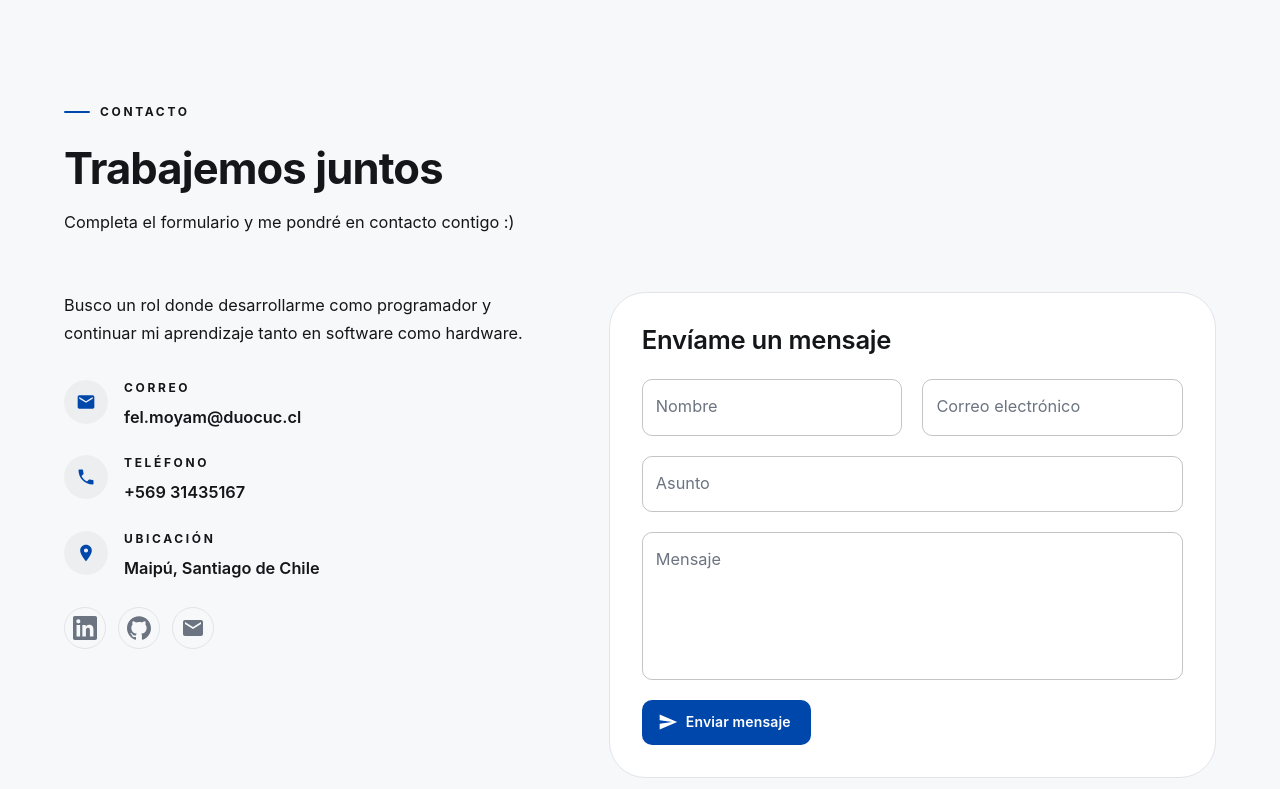
Test: SeccionContacto - Organismo › valida formato de correo electrónico
In the field labelled "Correo electrónico": (1053,407) [922,379,1183,436], type "correo-invalido"
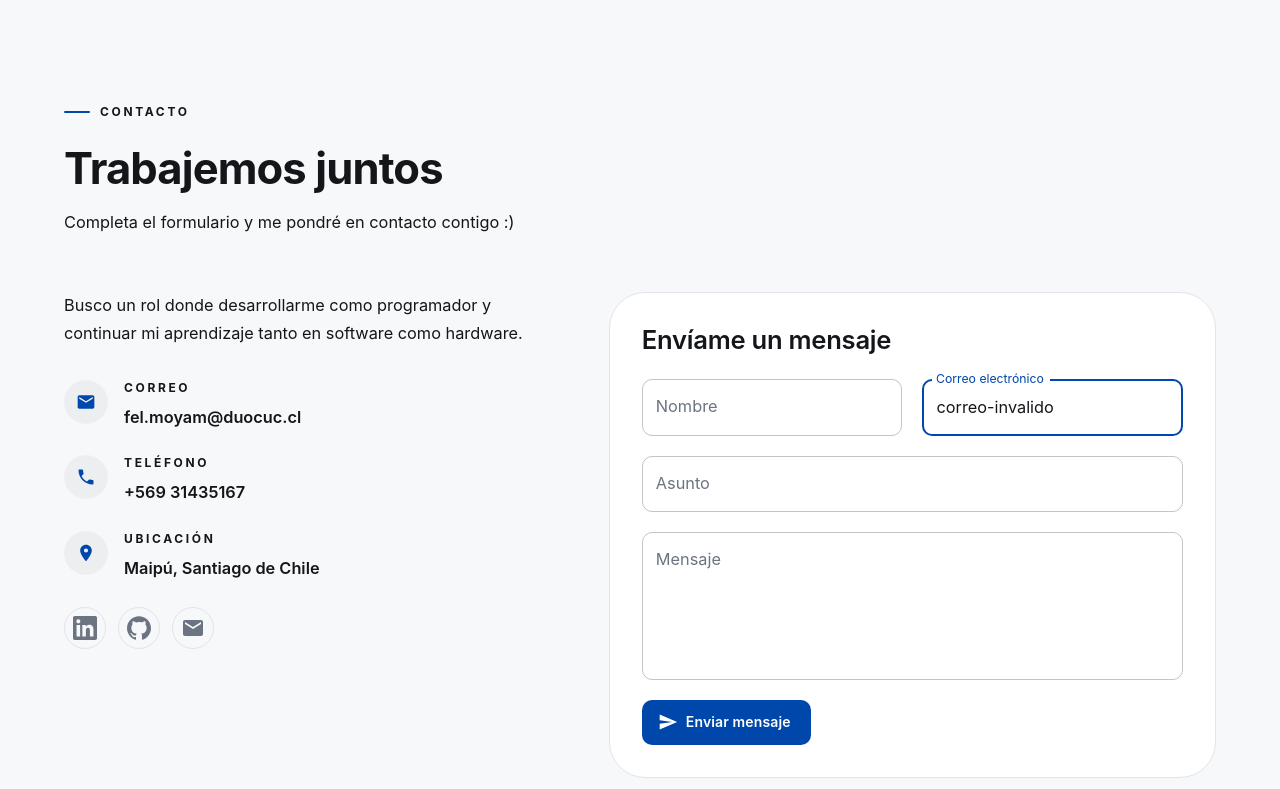
Click the button "Enviar mensaje": (726,722) [642,700,811,745]
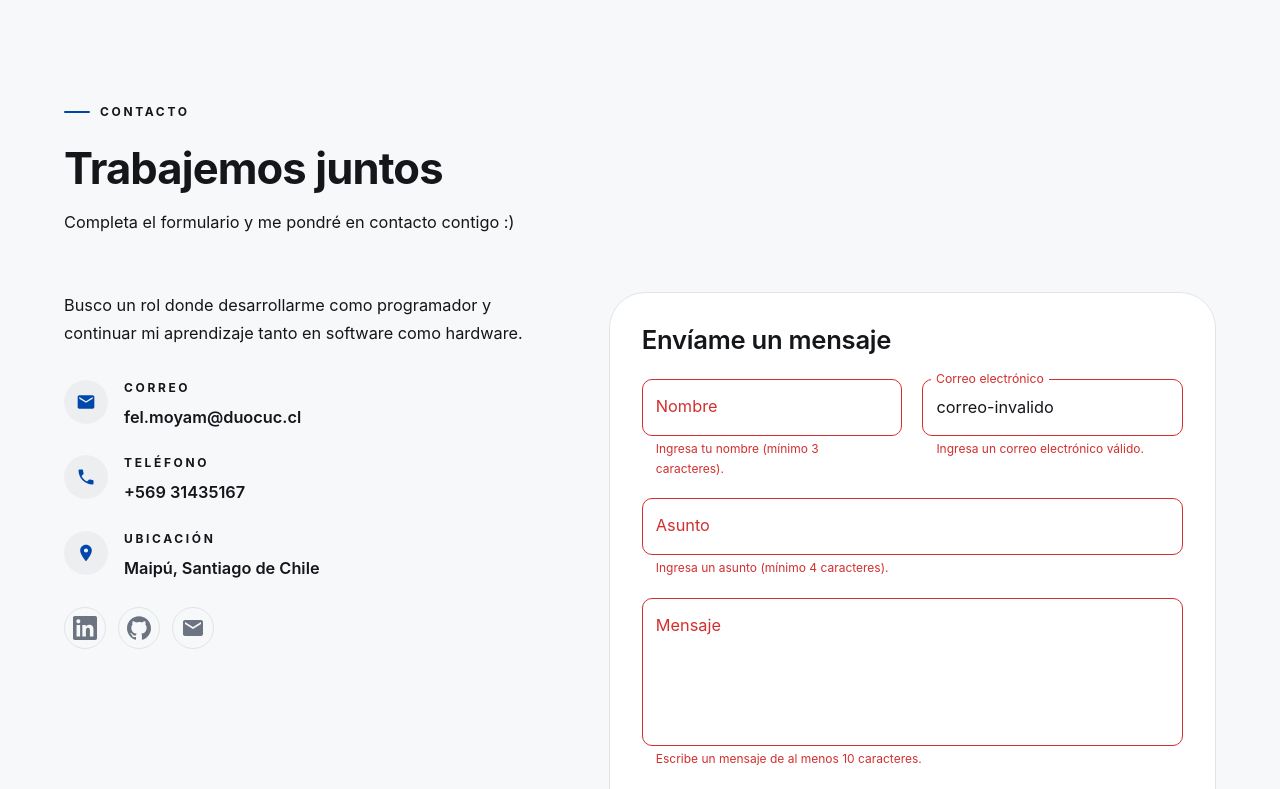
Expected: the text "Ingresa un correo electrónico válido." is shown, [936,439,1169,459]
